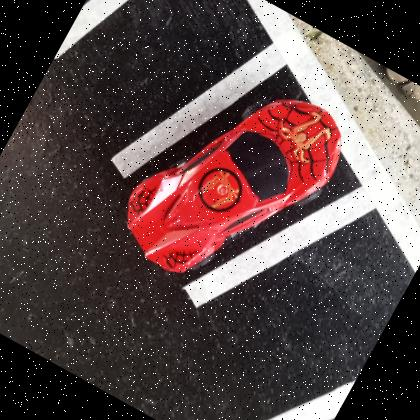Car: (127, 97, 342, 273)
